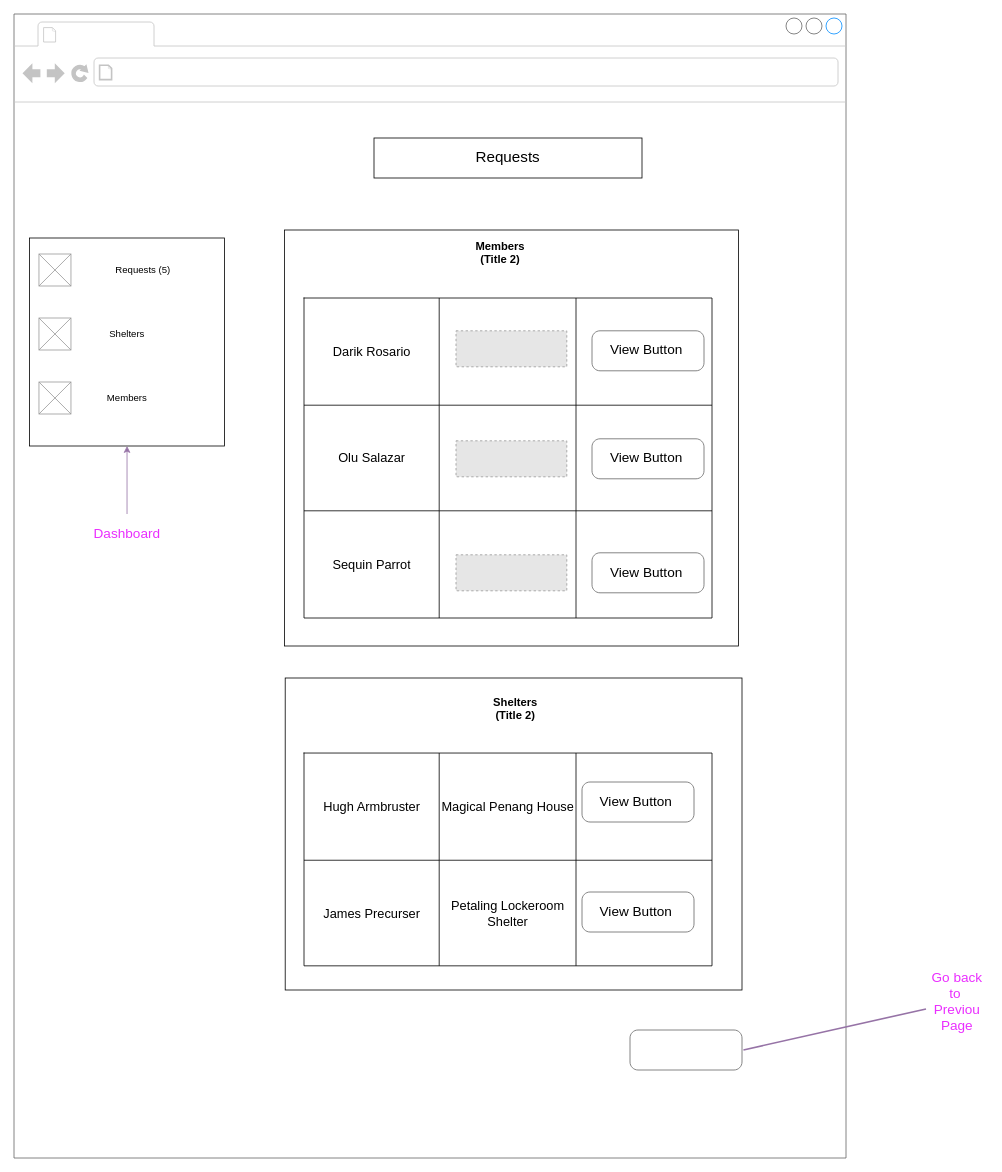
Image size: 1002x1172. Some labels were removed from this diagram. Grey dashed boxes stand in for pictures. Here are the shapes that lost their labels. From the top down, the centre of each, then its label:
At pixel 105 33: "Page 1".
At pixel 217 72: "https://www.default.com".
At pixel 685 1049: "Button 4".
